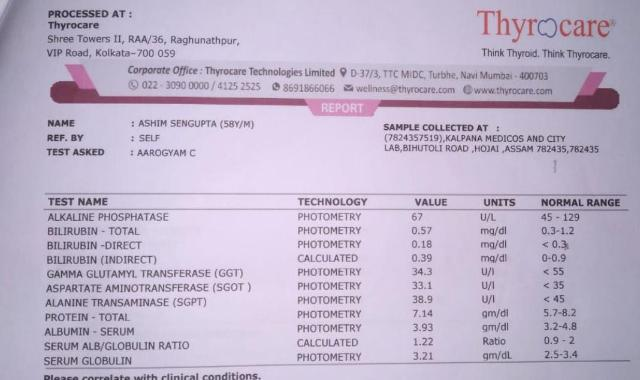Name: (136, 112, 257, 132)
Ref_By: (137, 134, 169, 145)
Reference_Range: (537, 210, 610, 362)
Technology: (292, 211, 369, 365)
Test_Asked: (133, 148, 203, 161)
Test_Name: (42, 209, 256, 368)
Unit: (474, 209, 522, 364)
Value: (404, 211, 452, 364)
